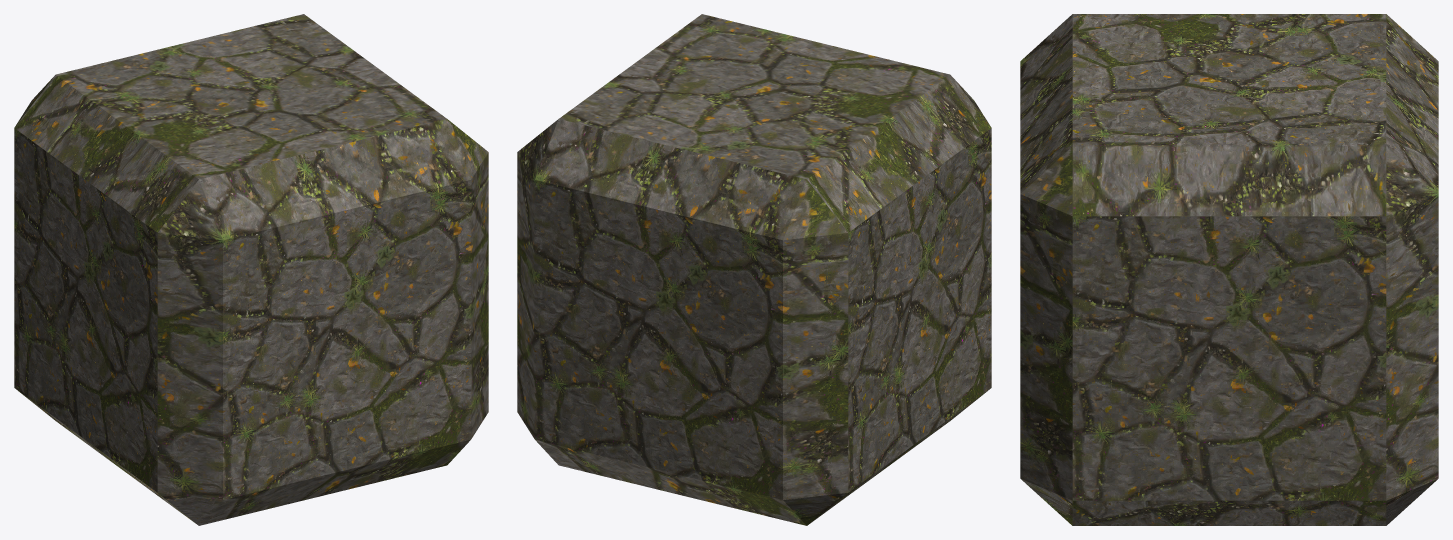
The picture shows the model from 3 angles, left to right: view 1: azimuth 30°, elevation 25°; view 2: azimuth 150°, elevation 25°; view 3: azimuth 270°, elevation 25°; orthographic projection. The views are drawn at different scales.
Visible parts, largest first — view 1: block_rounded_40; view 2: block_rounded_40; view 3: block_rounded_40.
Boxes of the visible parts, x1,y1,x2,y2 form: block_rounded_40: (14,14,488,525); block_rounded_40: (517,14,991,525); block_rounded_40: (1020,14,1438,525).
Bounding box in the file's own units: 10 × 10 × 10.
